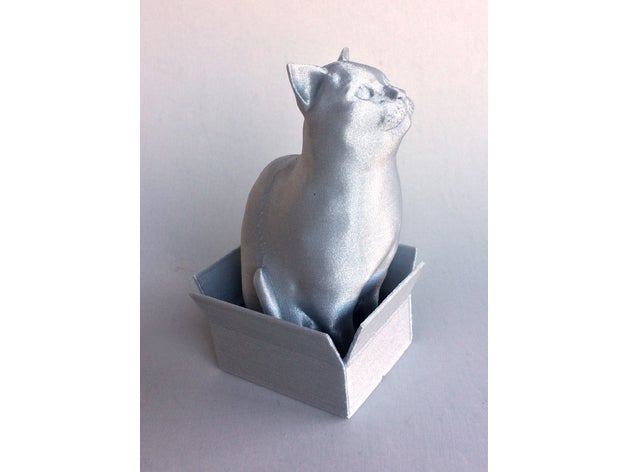Good: (171, 33, 455, 424)
